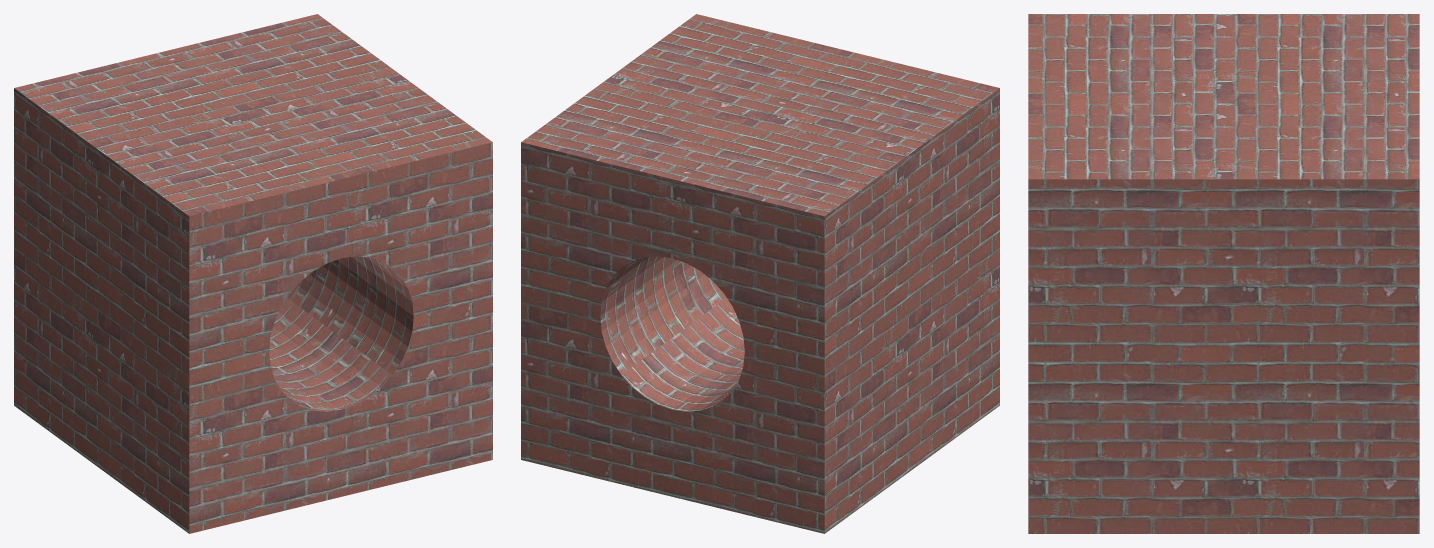
3 views of the same model, side by side, from view 1: azimuth 30°, elevation 25°; view 2: azimuth 150°, elevation 25°; view 3: azimuth 270°, elevation 25° (orthographic). The views are drawn at different scales.
Visible parts, largest first — view 1: Cube; view 2: Cube; view 3: Cube.
Part boxes in pixels (x1=…): Cube: x1=14, y1=14, x2=492, y2=533; Cube: x1=521, y1=14, x2=999, y2=533; Cube: x1=1028, y1=14, x2=1419, y2=533.
Bounding box in the file's own units: 2 × 2 × 2.
1 material, 1 textured.
